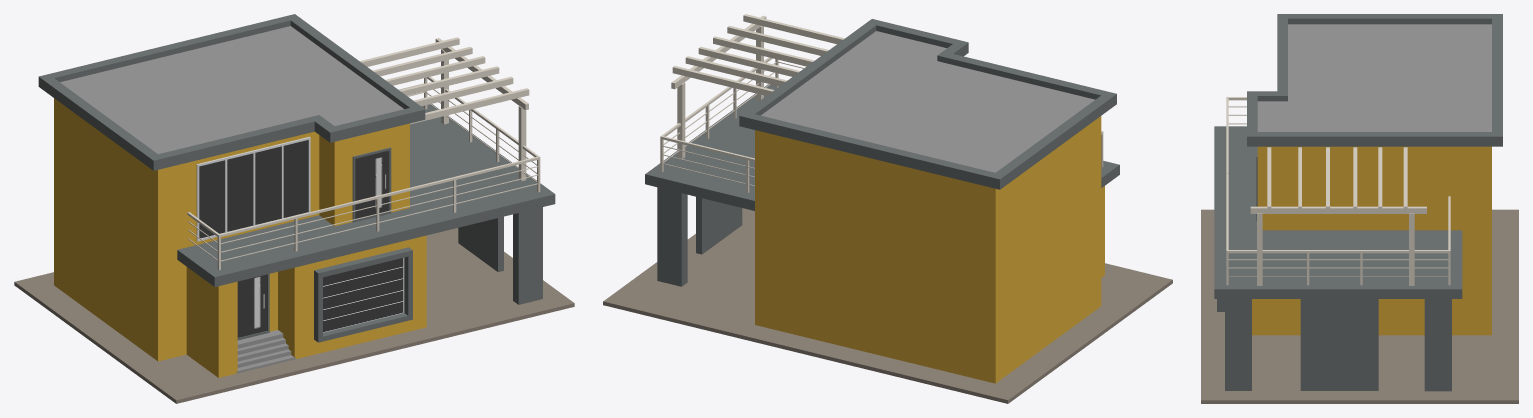
The model's file is building-house-01-color02.glb.
3 renders of one model, left to right at view 1: azimuth 30°, elevation 25°; view 2: azimuth 150°, elevation 25°; view 3: azimuth 270°, elevation 25°, orthographic. The views are drawn at different scales.
Visible parts, largest first — view 1: model; view 2: model; view 3: model.
Part boxes in pixels (<box>): model: <box>14,14,574,403</box>; model: <box>603,14,1172,403</box>; model: <box>1201,14,1518,403</box>.
Size of the model in its own units: 17.89 by 9.05 by 12.6.
1 material, 1 textured.
